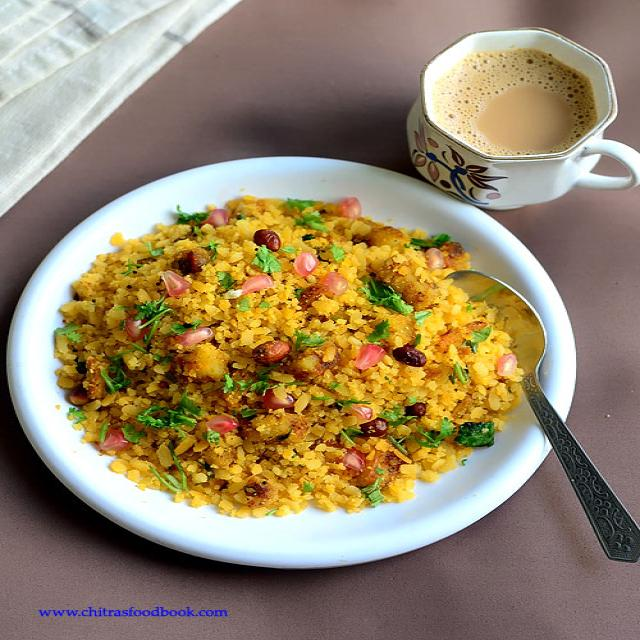POHA: (52, 199, 521, 515)
